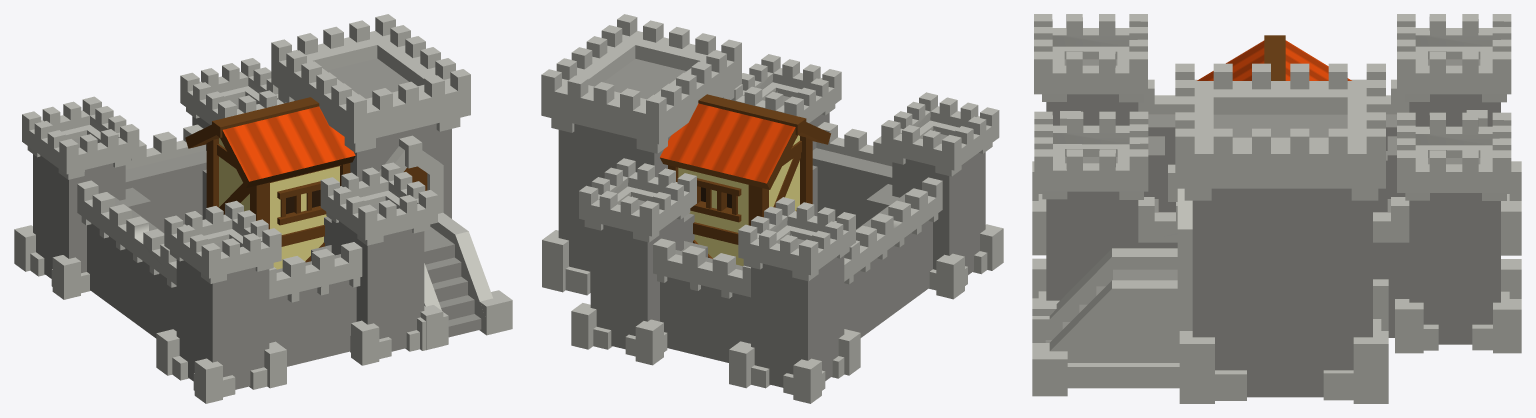
Rendered from SmallKeep.fbx.
The picture shows the model from 3 angles, left to right: view 1: azimuth 30°, elevation 25°; view 2: azimuth 150°, elevation 25°; view 3: azimuth 270°, elevation 25°; orthographic projection. The views are drawn at different scales.
Visible parts, largest first — view 1: keep1:pasted__polySurface1; view 2: keep1:pasted__polySurface1; view 3: keep1:pasted__polySurface1.
Boxes of the visible parts, left/top/right/bottom form: keep1:pasted__polySurface1: left=14, top=14, right=512, bottom=403; keep1:pasted__polySurface1: left=541, top=14, right=1003, bottom=403; keep1:pasted__polySurface1: left=1032, top=14, right=1521, bottom=403.
Size of the model in its own units: 247 by 155 by 256.
1 material, 1 textured.
